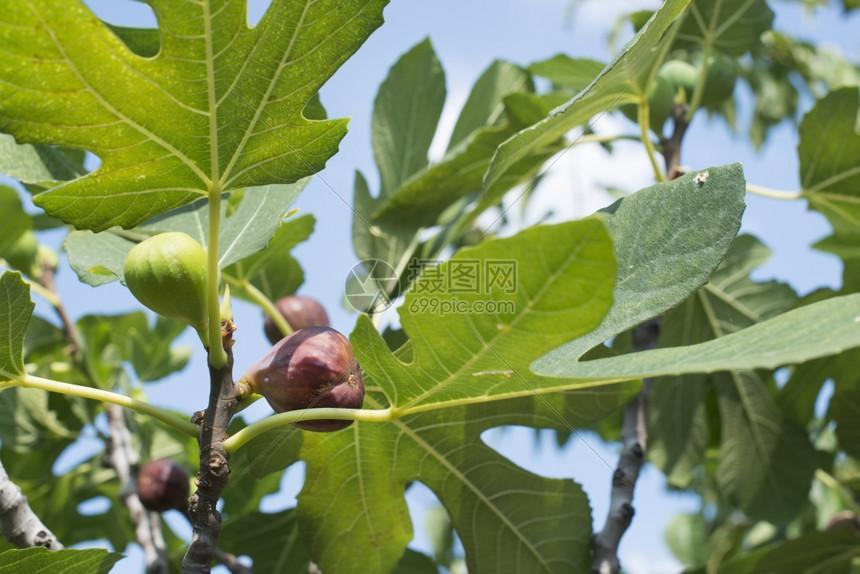apple: (122, 230, 228, 366), (136, 460, 191, 511)
